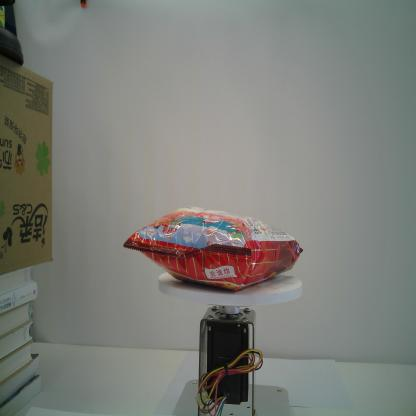Puffed Food: (123, 205, 304, 292)
